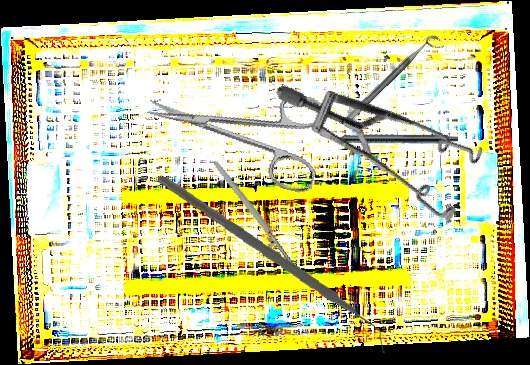Chopper: (149, 176, 394, 354)
Fixation Ring: (340, 32, 446, 134)
Handpiece: (320, 132, 458, 144)
Iris Scissors: (136, 57, 335, 196)
Needle Holder: (213, 143, 317, 306)
Speculum: (274, 15, 506, 265)
